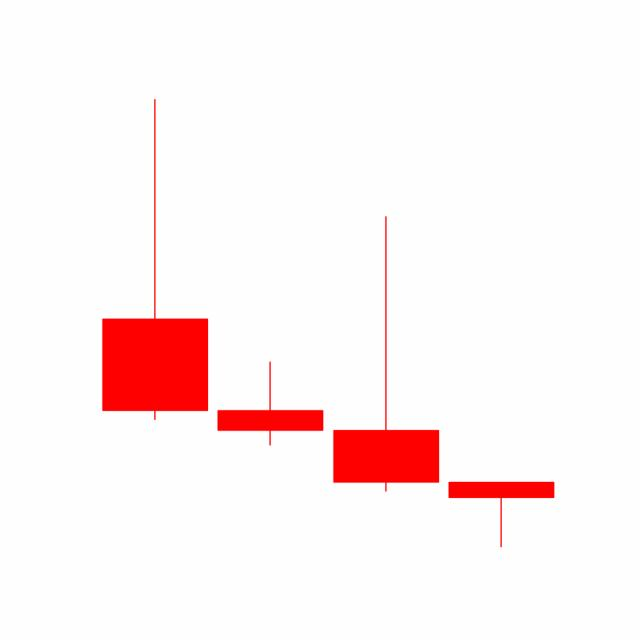Hammer: (443, 479, 559, 548)
